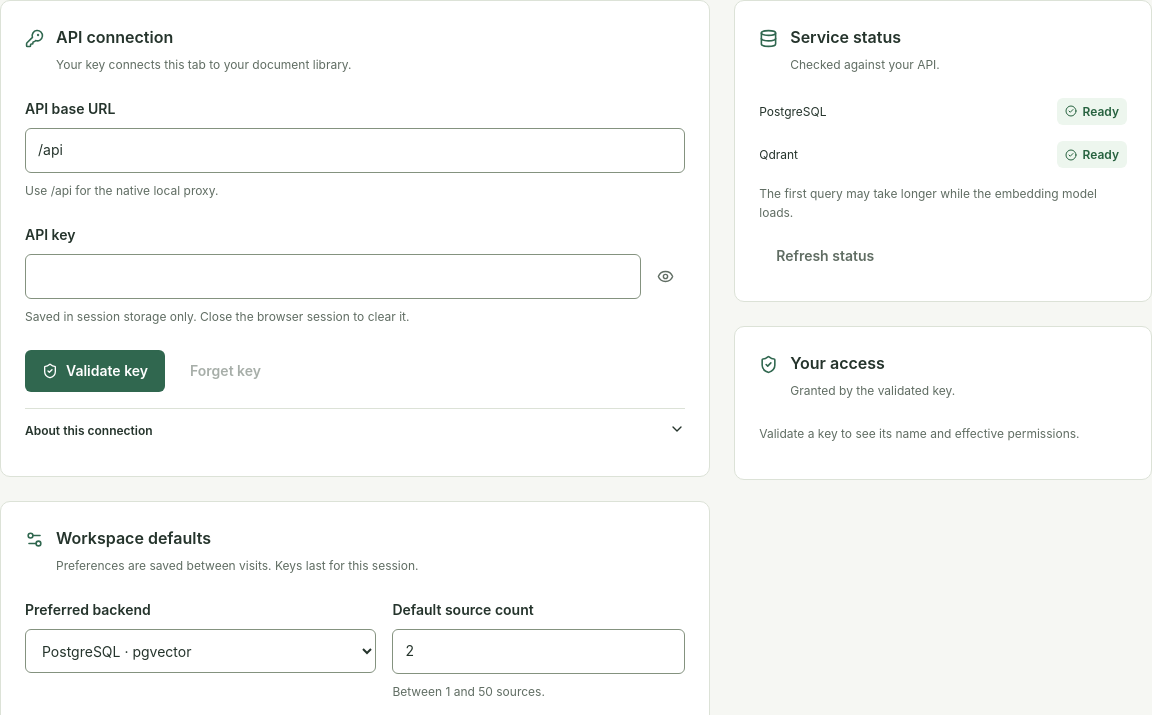
Scenario: Settings and scope flow › validates local fields without sending the key in an address
Click the button "Validate key" at {"x": 95, "y": 371}, box [25,350,165,392]
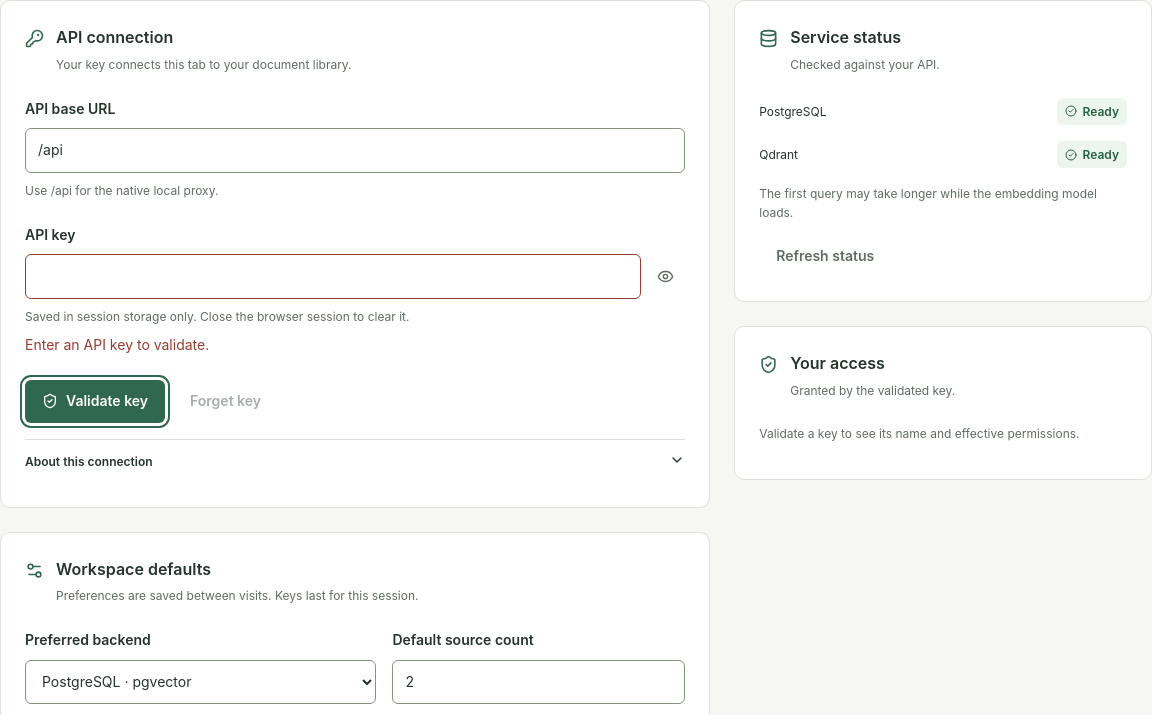
Now the text "Enter an API key to validate." is shown, box [25,336,209,353]
Type "private-test-value" into the password field labelled "API key" at {"x": 333, "y": 276}, box [25,254,641,298]
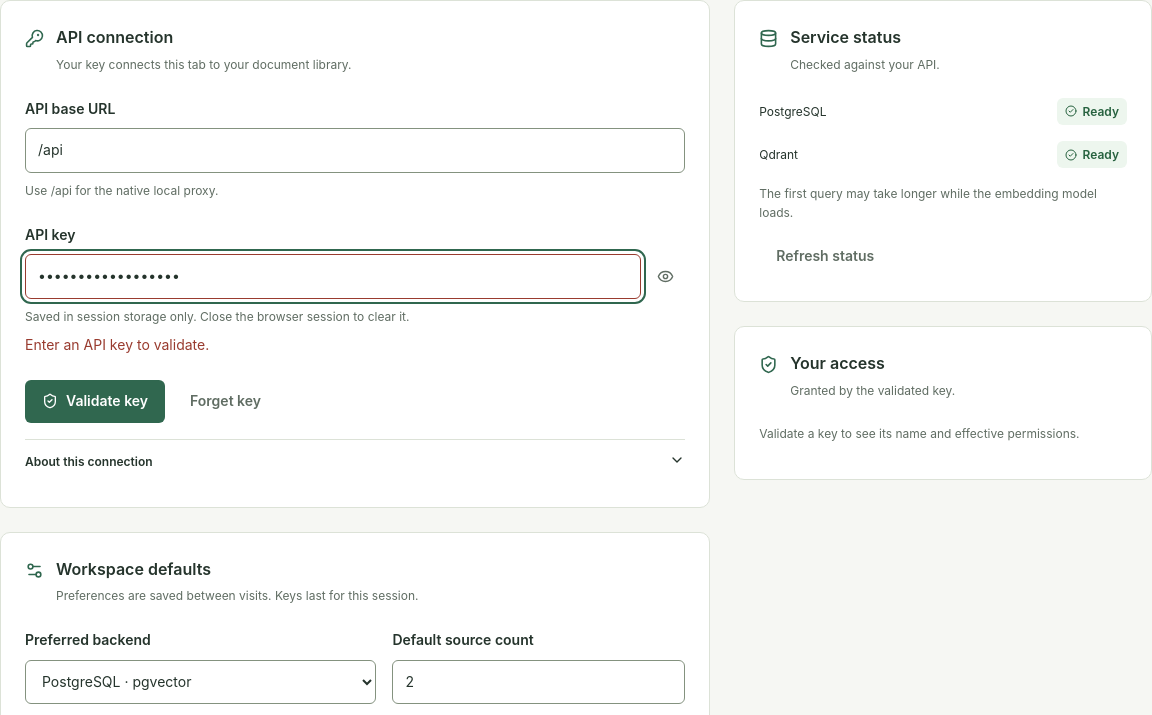
Replace the text in the field labelled "API base URL" with "/api/private-test-value" at {"x": 355, "y": 150}, box [25,128,685,173]
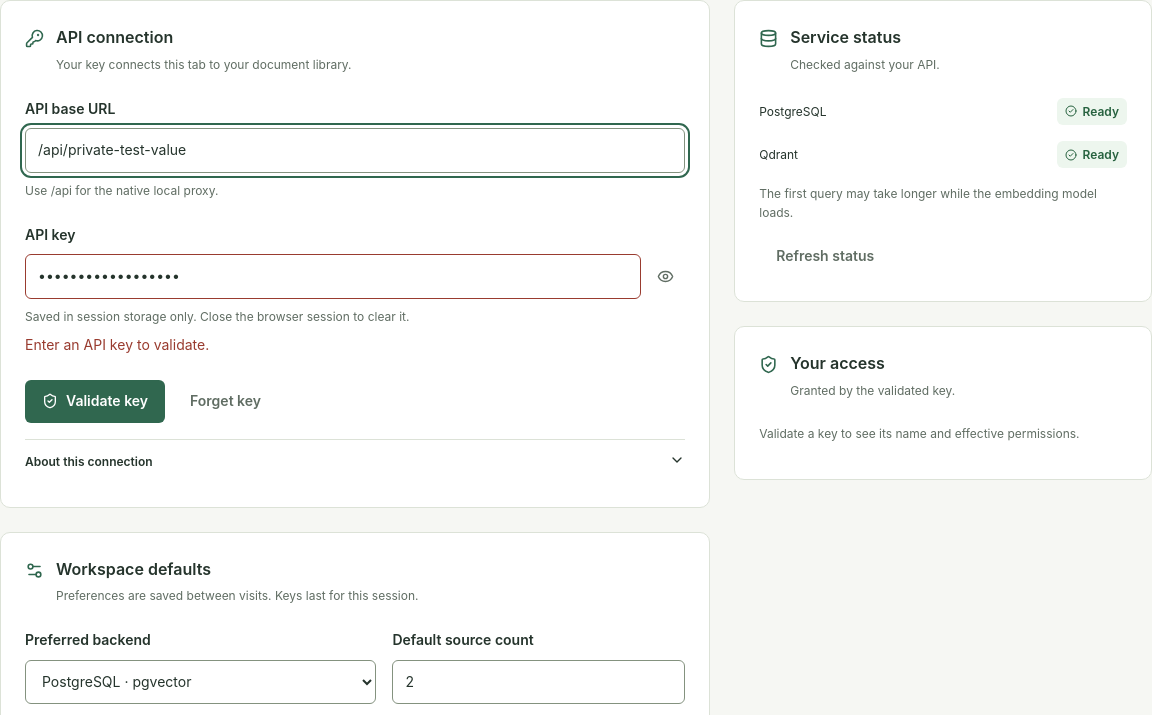
Click the button "Validate key" at {"x": 95, "y": 401}, box [25,380,165,422]
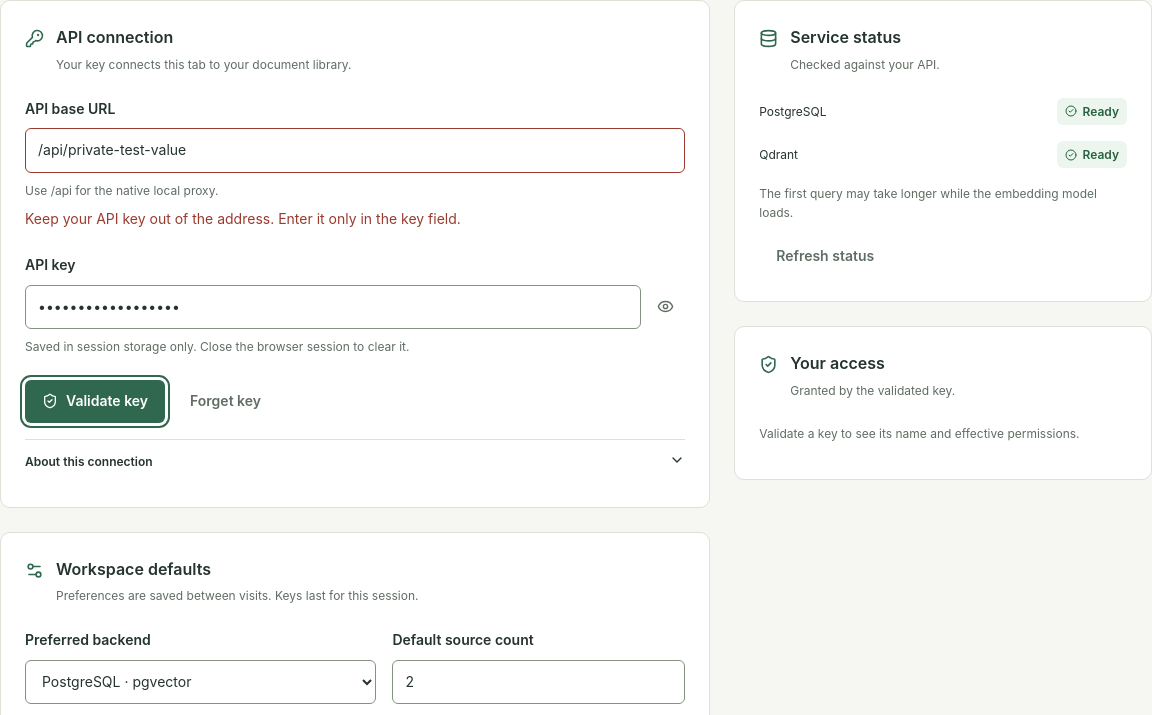
Now the text "Keep your API key out of the address. Enter it only in the key field." is shown, box [25,210,461,227]
